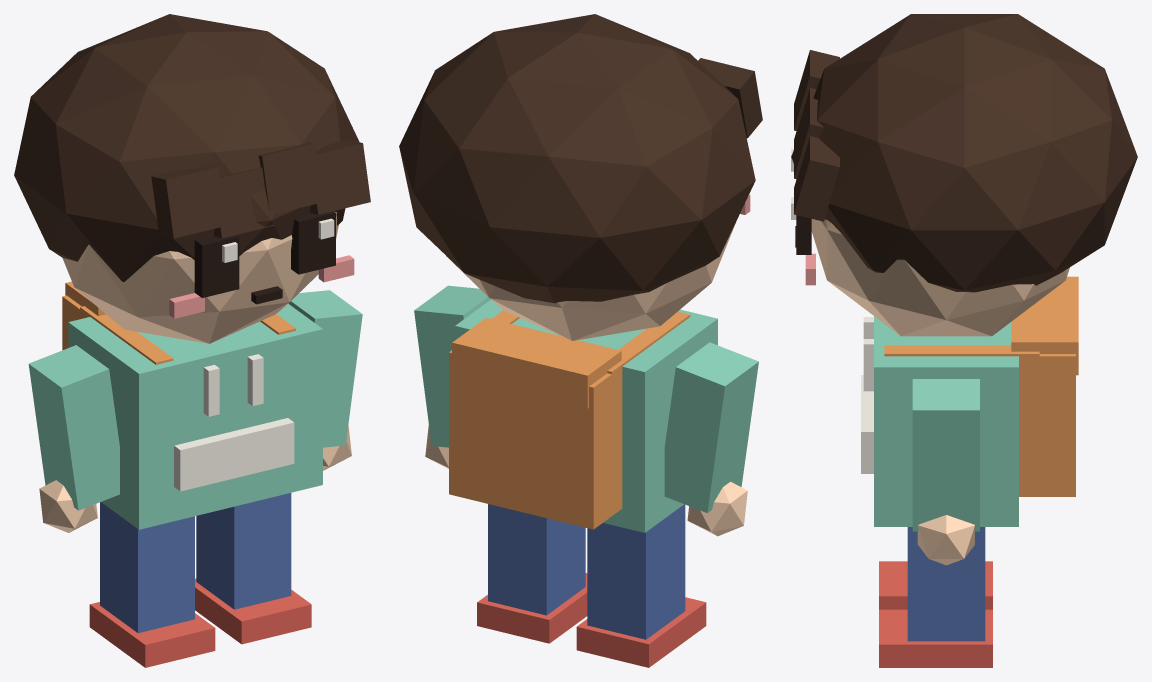
The model's file is kar_mahasiswa_psx.fbx.
The picture shows the model from 3 angles, left to right: view 1: azimuth 30°, elevation 25°; view 2: azimuth 150°, elevation 25°; view 3: azimuth 270°, elevation 25°; orthographic projection. The views are drawn at different scales.
Visible parts, largest first — view 1: kar_mahasiswa_psx; view 2: kar_mahasiswa_psx; view 3: kar_mahasiswa_psx.
Boxes of the visible parts, x1=… form: kar_mahasiswa_psx: x1=14, y1=14, x2=370, y2=667; kar_mahasiswa_psx: x1=399, y1=14, x2=762, y2=667; kar_mahasiswa_psx: x1=791, y1=14, x2=1137, y2=667.
Bounding box in the file's own units: 69.63 × 128 × 66.96.
1 material, 1 textured.
